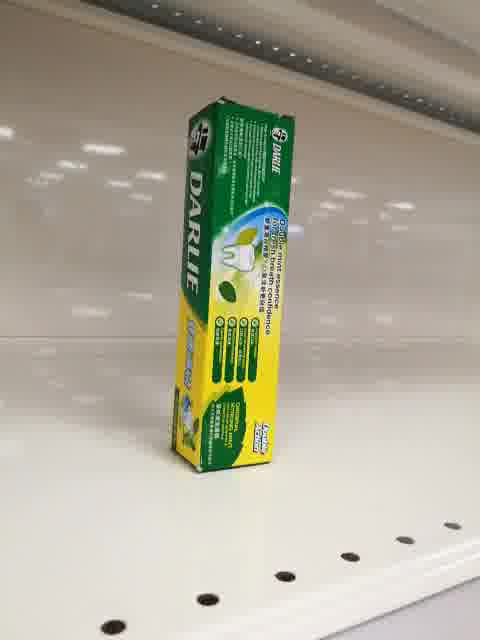toothpaste: (170, 95, 296, 475)
